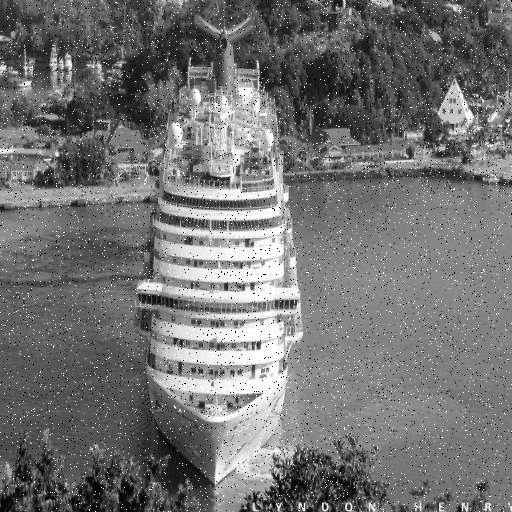cruises: (130, 4, 308, 498)
